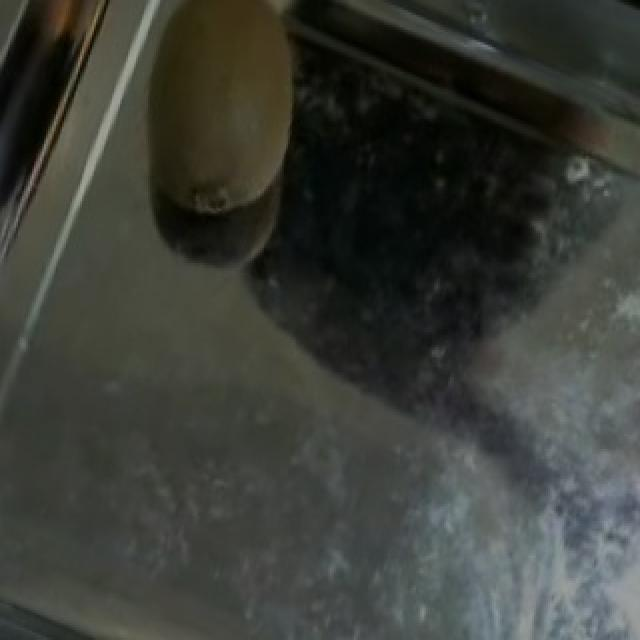Fruit: (102, 0, 342, 256)
